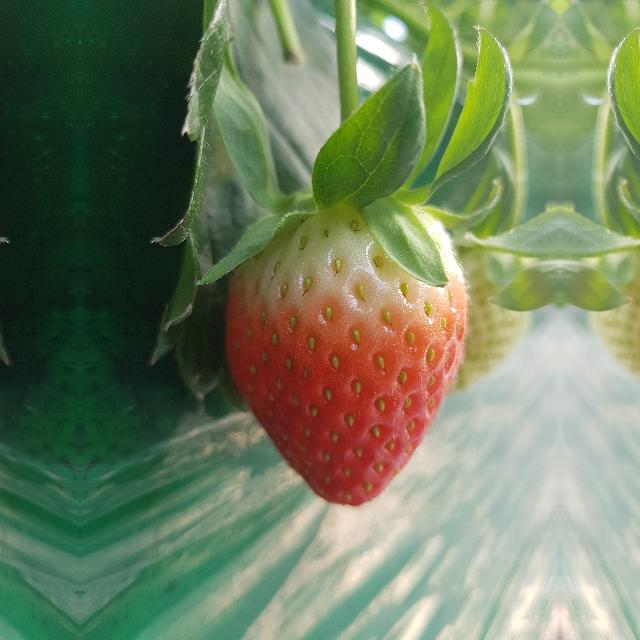Health_100: (223, 208, 469, 506)
